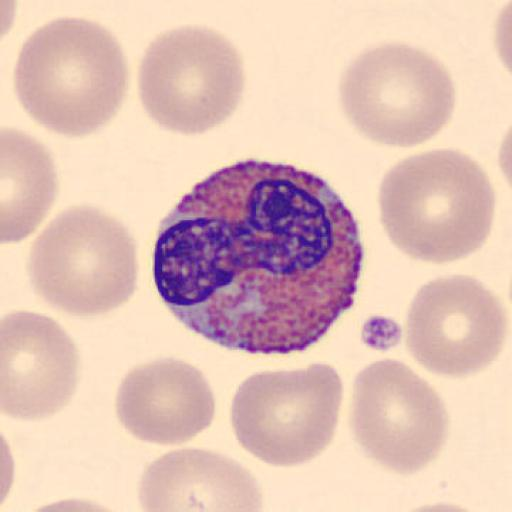RBC: (11, 14, 131, 140), (377, 146, 496, 266), (25, 202, 140, 318), (337, 39, 457, 149), (136, 23, 248, 138), (228, 361, 346, 470), (348, 354, 450, 475), (404, 272, 508, 380), (113, 354, 218, 449), (1, 309, 80, 422), (136, 444, 265, 512), (2, 127, 58, 244), (8, 495, 134, 512), (492, 0, 512, 82), (0, 424, 18, 512), (391, 500, 495, 512), (496, 120, 512, 190), (0, 0, 20, 49), (0, 0, 23, 39)
WBC: (148, 157, 368, 356)
